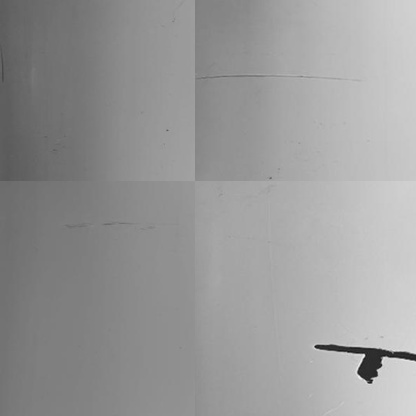fengxi: (311, 343, 414, 360)
kongdong: (354, 353, 382, 384)
